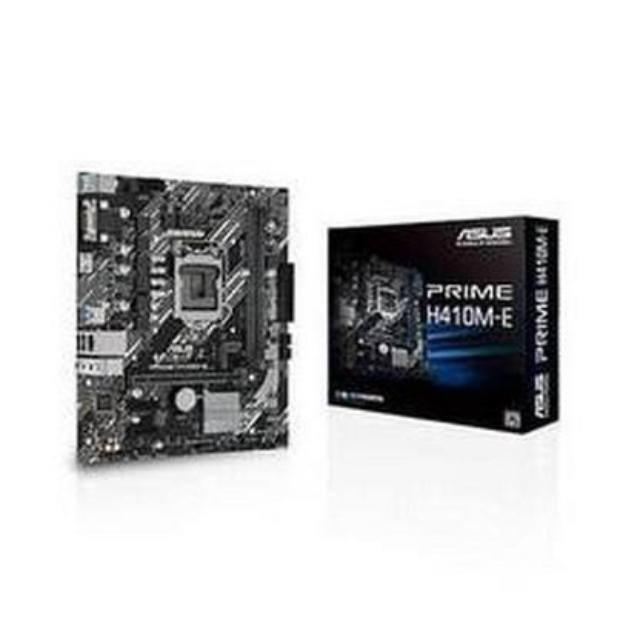Mainboard: (74, 169, 296, 466)
